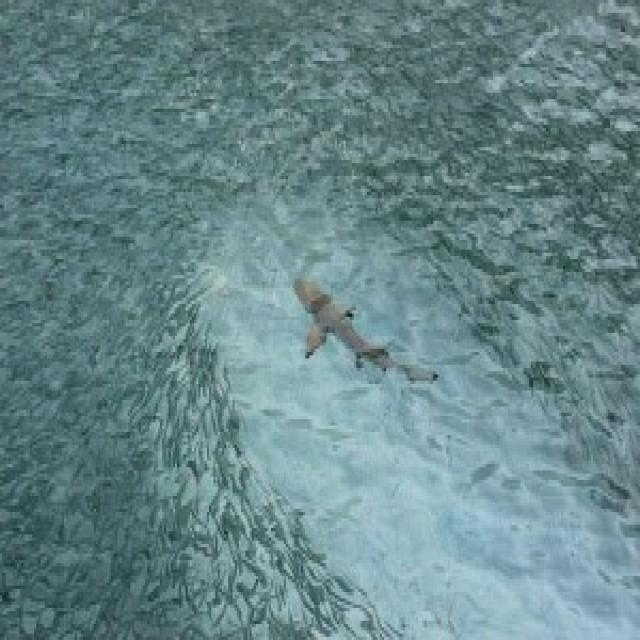Shark: (288, 264, 405, 402)
